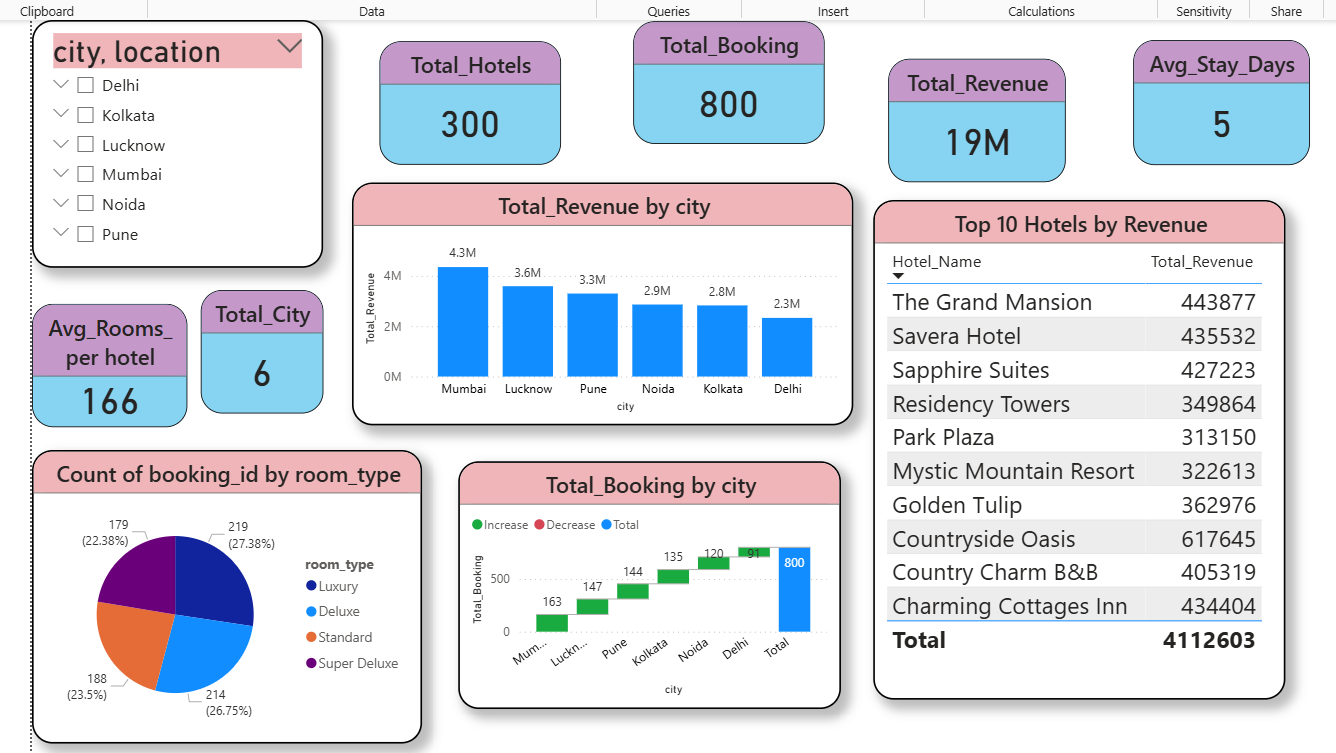

Layout of this report page (visuals, bound fields, positions):
{"tool":"powerbi","page":{"name":"Hotel Booking Overview","canvas":[1280,720],"ordinal":0},"visuals":[{"type":"card","title":"Total_Hotels","fields":{"Values":["All_Measures.Total_Hotels"]},"box":[339.9,20.8,177.3,121.1],"z":0},{"type":"card","title":"Avg_Rooms_per hotel","fields":{"Values":["All_Measures.Avg_Rooms_per_hotel"]},"box":[0,277.6,151.6,121.1],"z":1000},{"type":"card","title":"Total_Booking","fields":{"Values":["All_Measures.Total_Booking"]},"box":[588.2,1.2,187.1,119.8],"z":2000},{"type":"card","title":"Total_Revenue","fields":{"Values":["All_Measures.Avg_Discount %"]},"box":[837.6,37.9,173.6,121.1],"z":3000},{"type":"waterfallChart","fields":{"Category":["hotels.city"],"Y":["All_Measures.Total_Booking"]},"box":[417,431.7,374.2,242.1],"z":4000},{"type":"tableEx","title":"Top 10 Hotels by Revenue","fields":{"Values":["hotels.Hotel_Name","All_Measures.Total_Revenue"]},"box":[823,176.1,403.5,489.1],"z":5000},{"type":"pieChart","fields":{"Category":["bookings.room_type"],"Y":["CountNonNull(bookings.booking_id)"]},"box":[0,420.7,381.5,287.4],"z":6000},{"type":"card","title":"Avg_Stay_Days","fields":{"Values":["All_Measures.Average Stay Duration"]},"box":[1077.3,19.6,172.4,122.3],"z":7000},{"type":"columnChart","fields":{"Y":["All_Measures.Total_Revenue"],"Category":["hotels.city"]},"box":[313,159,490.4,237.2],"z":8000},{"type":"card","title":"Total_City","fields":{"Values":["All_Measures.Total_City"]},"box":[165.1,264.1,119.8,121.1],"z":9000},{"type":"slicer","fields":{"Values":["hotels.city","hotels.location"]},"box":[0,0,284.9,242.1],"z":10000}]}

Visuals, with their boxes in screenshot pixels (x1, y1, x2, y2):
"Total_Hotels" card: 374 35 557 160
"Avg_Rooms_per hotel" card: 24 300 180 424
"Total_Booking" card: 630 15 822 138
"Total_Revenue" card: 887 53 1065 178
waterfallChart - hotels.city x All_Measures.Total_Booking: 454 458 839 707
"Top 10 Hotels by Revenue" tableEx: 871 195 1287 699
pieChart - bookings.room_type x CountNonNull(bookings.booking_id): 24 447 417 743
"Avg_Stay_Days" card: 1133 34 1311 160
columnChart - All_Measures.Total_Revenue x hotels.city: 347 178 851 422
"Total_City" card: 194 286 318 410
slicer - hotels.city x hotels.location: 24 14 318 263
